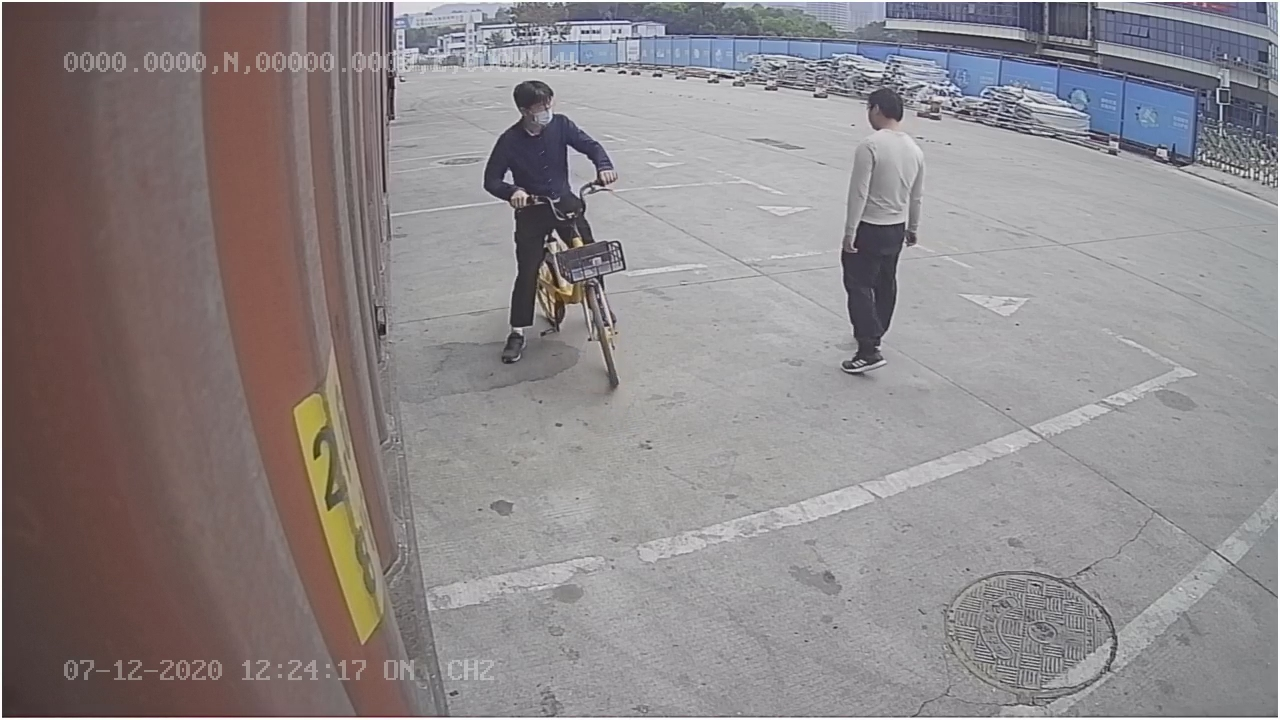person: (831, 86, 929, 380)
